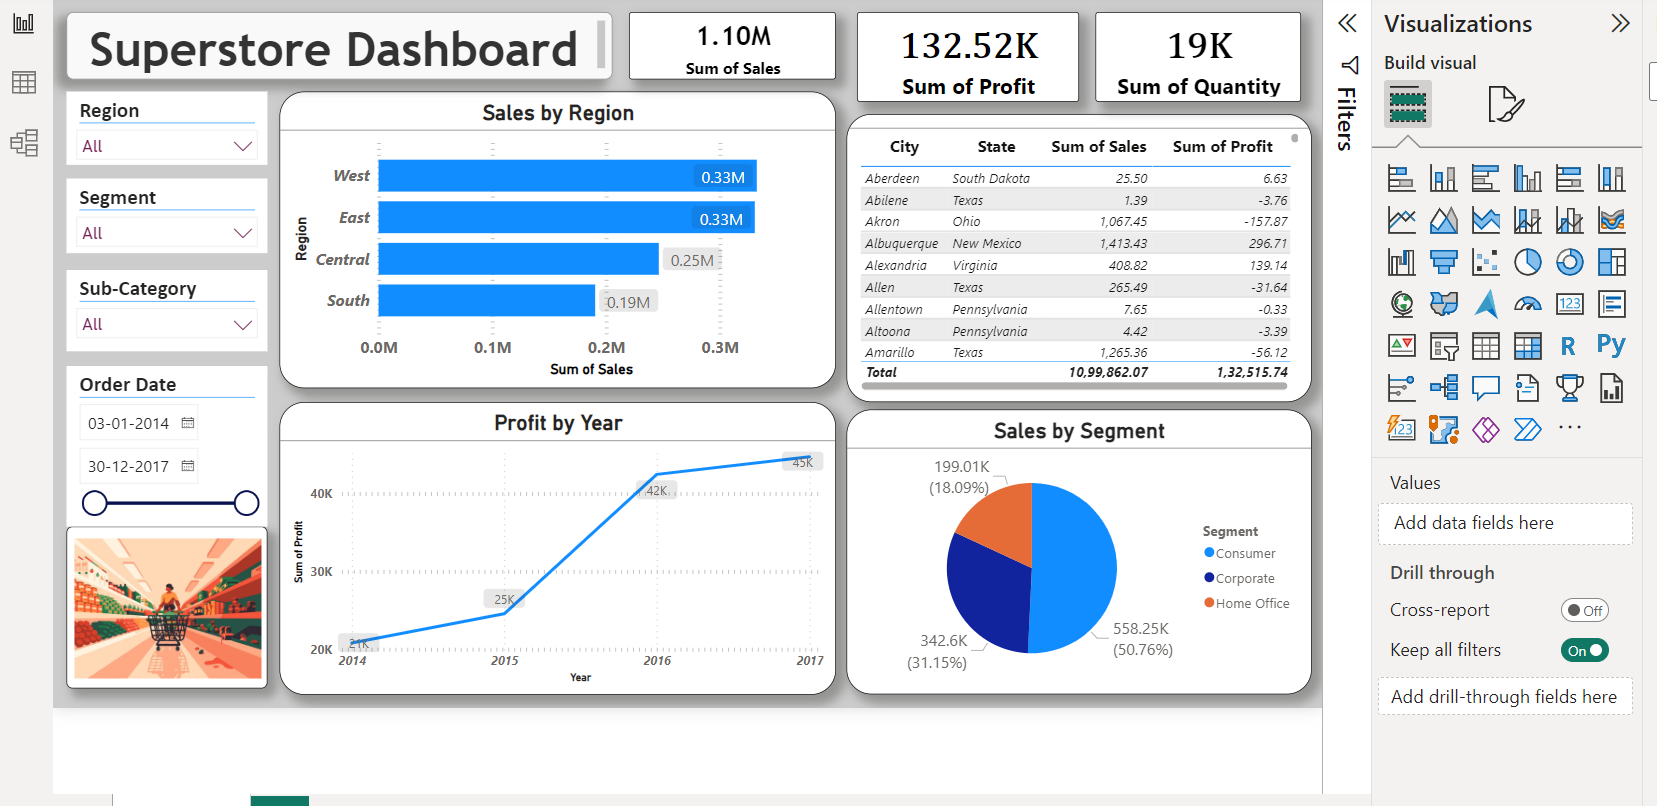

Layout of this report page (visuals, bound fields, positions):
{"tool":"powerbi","page":{"name":"Overview","canvas":[1280,720],"ordinal":0},"visuals":[{"type":"clusteredBarChart","title":"Sales by Region","fields":{"Category":["Sample - Superstore.Region"],"Y":["Sum(Sample - Superstore.Sales)"]},"box":[228.5,98.3,561.3,299.6],"z":0},{"type":"textbox","box":[13.6,18.2,550.7,68.1],"z":1000},{"type":"image","box":[13.6,537.1,202.7,163.4],"z":2000},{"type":"card","fields":{"Values":["Sum(Sample - Superstore.Profit)"]},"box":[811,18.2,223.9,90.8],"z":3000},{"type":"card","fields":{"Values":["Sum(Sample - Superstore.Sales)"]},"box":[581,18.2,208.8,68.1],"z":4000},{"type":"slicer","fields":{"Values":["Sample - Superstore.Region"]},"box":[13.6,98.3,202.7,74.1],"z":5000},{"type":"lineChart","title":"Profit by Year","fields":{"Y":["Sum(Sample - Superstore.Profit)"],"Category":["Sample - Superstore.Order Date.Variation.Date Hierarchy.Year"]},"box":[228.5,411.5,561.3,295],"z":6000},{"type":"slicer","fields":{"Values":["Sample - Superstore.Segment"]},"box":[13.6,186.1,202.7,75.7],"z":7000},{"type":"slicer","fields":{"Values":["Sample - Superstore.Sub-Category"]},"box":[13.6,278.4,202.7,81.7],"z":8000},{"type":"tableEx","fields":{"Values":["Sample - Superstore.City","Sample - Superstore.State","Sum(Sample - Superstore.Sales)","Sum(Sample - Superstore.Profit)"]},"box":[800.4,121,469,290.5],"z":9000},{"type":"slicer","fields":{"Values":["Sample - Superstore.Order Date"]},"box":[13.6,375.2,202.7,161.9],"z":10000},{"type":"card","fields":{"Values":["Sum(Sample - Superstore.Quantity)"]},"box":[1051.5,18.2,207.3,90.8],"z":11000},{"type":"pieChart","title":"Sales by Segment","fields":{"Y":["Sum(Sample - Superstore.Sales)"],"Category":["Sample - Superstore.Segment"]},"box":[800.4,419.1,469,287.5],"z":12000}]}

Visuals, with their boxes on the page's 1280x720 design canvas (x1, y1, x2, y2). These are canvas units, not pixel positions in the 1657x806 screenshot, which may show the page scaled, cropped or inside an application window:
"Sales by Region" clusteredBarChart: x1=228, y1=98, x2=790, y2=398
textbox: x1=14, y1=18, x2=564, y2=86
image: x1=14, y1=537, x2=216, y2=700
card - Sum(Sample - Superstore.Profit): x1=811, y1=18, x2=1035, y2=109
card - Sum(Sample - Superstore.Sales): x1=581, y1=18, x2=790, y2=86
slicer - Sample - Superstore.Region: x1=14, y1=98, x2=216, y2=172
"Profit by Year" lineChart: x1=228, y1=412, x2=790, y2=706
slicer - Sample - Superstore.Segment: x1=14, y1=186, x2=216, y2=262
slicer - Sample - Superstore.Sub-Category: x1=14, y1=278, x2=216, y2=360
tableEx - Sample - Superstore.City x Sample - Superstore.State: x1=800, y1=121, x2=1269, y2=412
slicer - Sample - Superstore.Order Date: x1=14, y1=375, x2=216, y2=537
card - Sum(Sample - Superstore.Quantity): x1=1052, y1=18, x2=1259, y2=109
"Sales by Segment" pieChart: x1=800, y1=419, x2=1269, y2=707
